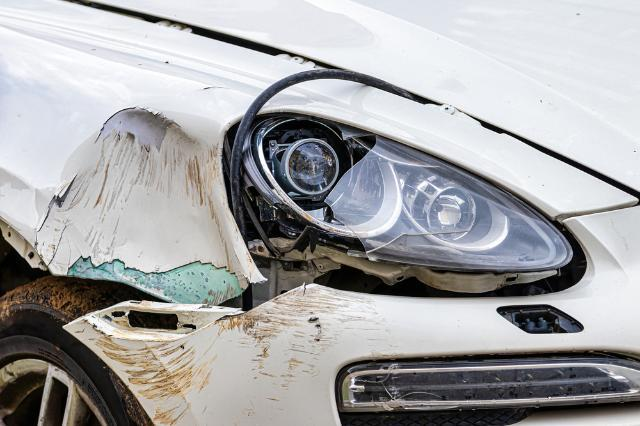dent: (36, 108, 247, 303)
dislocated part: (53, 235, 640, 426)
lamp broken: (226, 115, 578, 282)
scratch: (92, 284, 402, 426)
